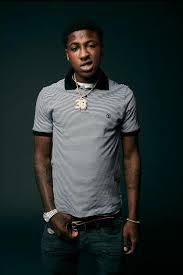quandale-dingle: (66, 27, 104, 77)
